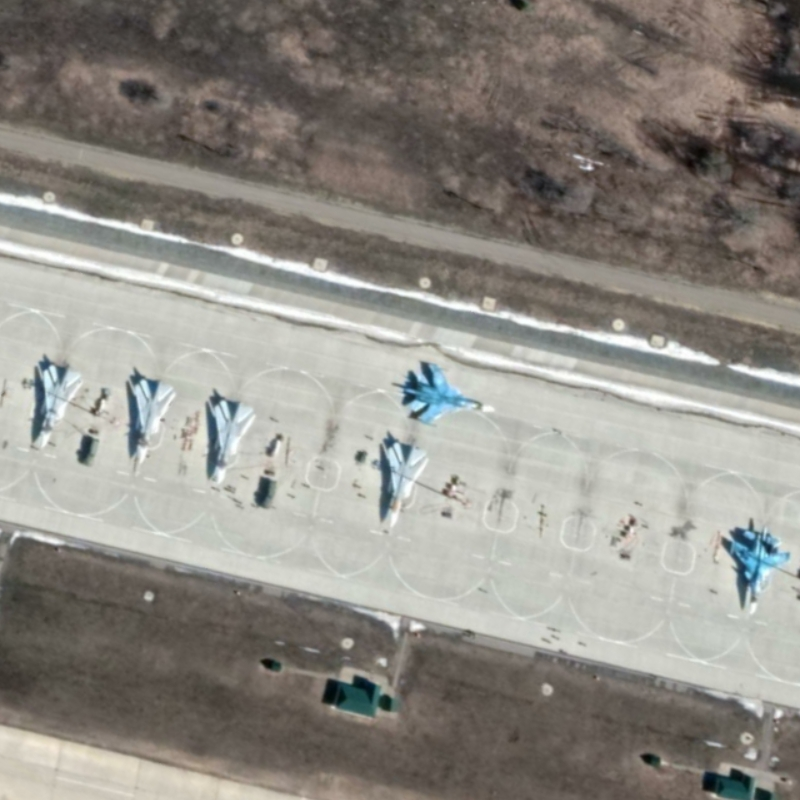A19: (403, 361, 497, 428), (729, 525, 793, 616)
A20: (385, 440, 432, 531), (37, 362, 84, 452), (132, 377, 178, 466), (212, 398, 258, 486)
